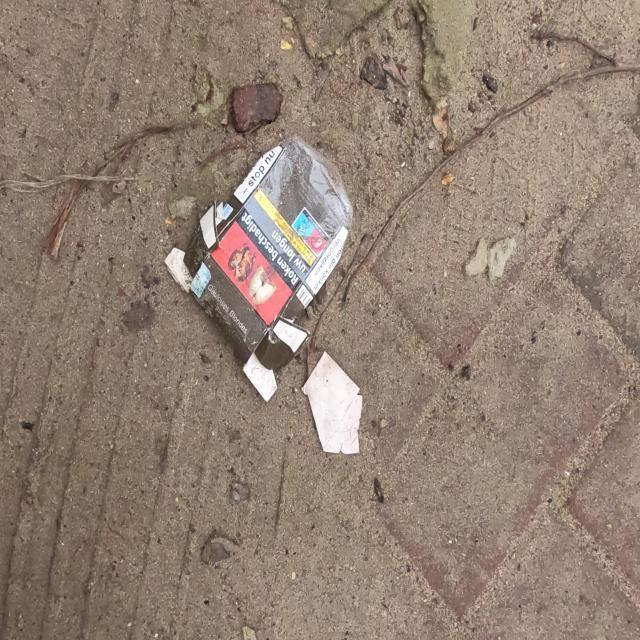Paper: (162, 128, 358, 408), (300, 346, 366, 458)
